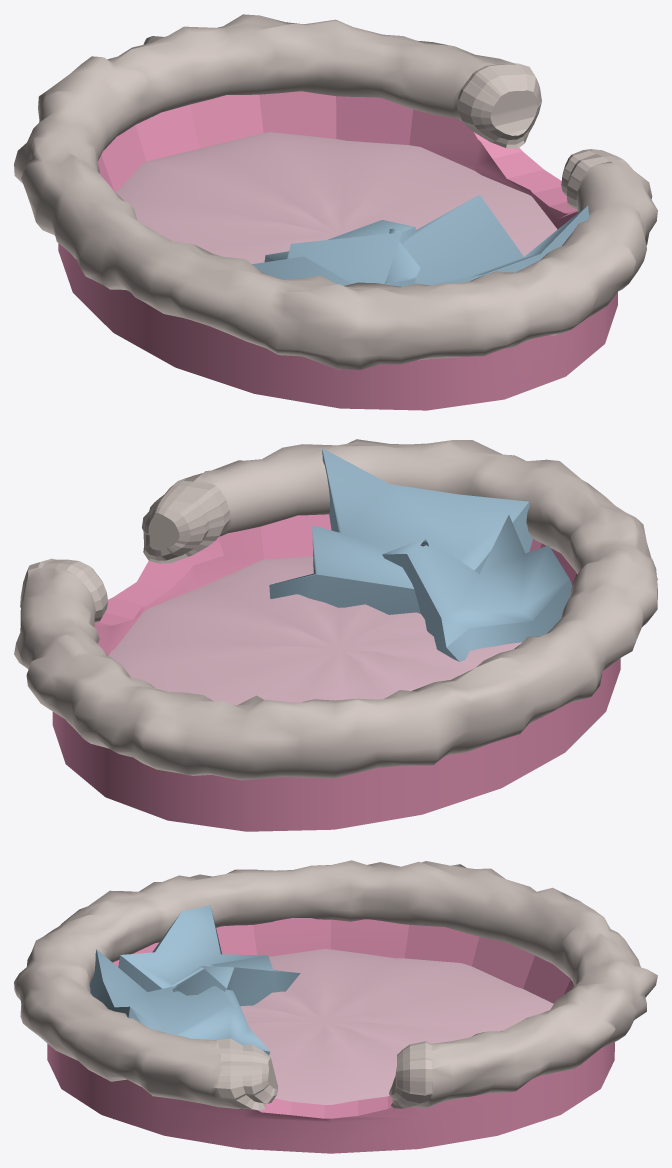
The model's file is bed.fbx.
The picture shows the model from 3 angles, top to bottom: view 1: azimuth 30°, elevation 25°; view 2: azimuth 150°, elevation 25°; view 3: azimuth 270°, elevation 25°; orthographic projection. The views are drawn at different scales.
Parts seen in each view (by area): view 1: smallPillow1; view 2: smallPillow1; view 3: smallPillow1.
Boxes of the visible parts, x1,y1,x2,y2 form: smallPillow1: (14, 14, 657, 410); smallPillow1: (14, 439, 657, 831); smallPillow1: (14, 860, 657, 1153).
Bounding box in the file's own units: 13.14 × 3.25 × 16.83.
